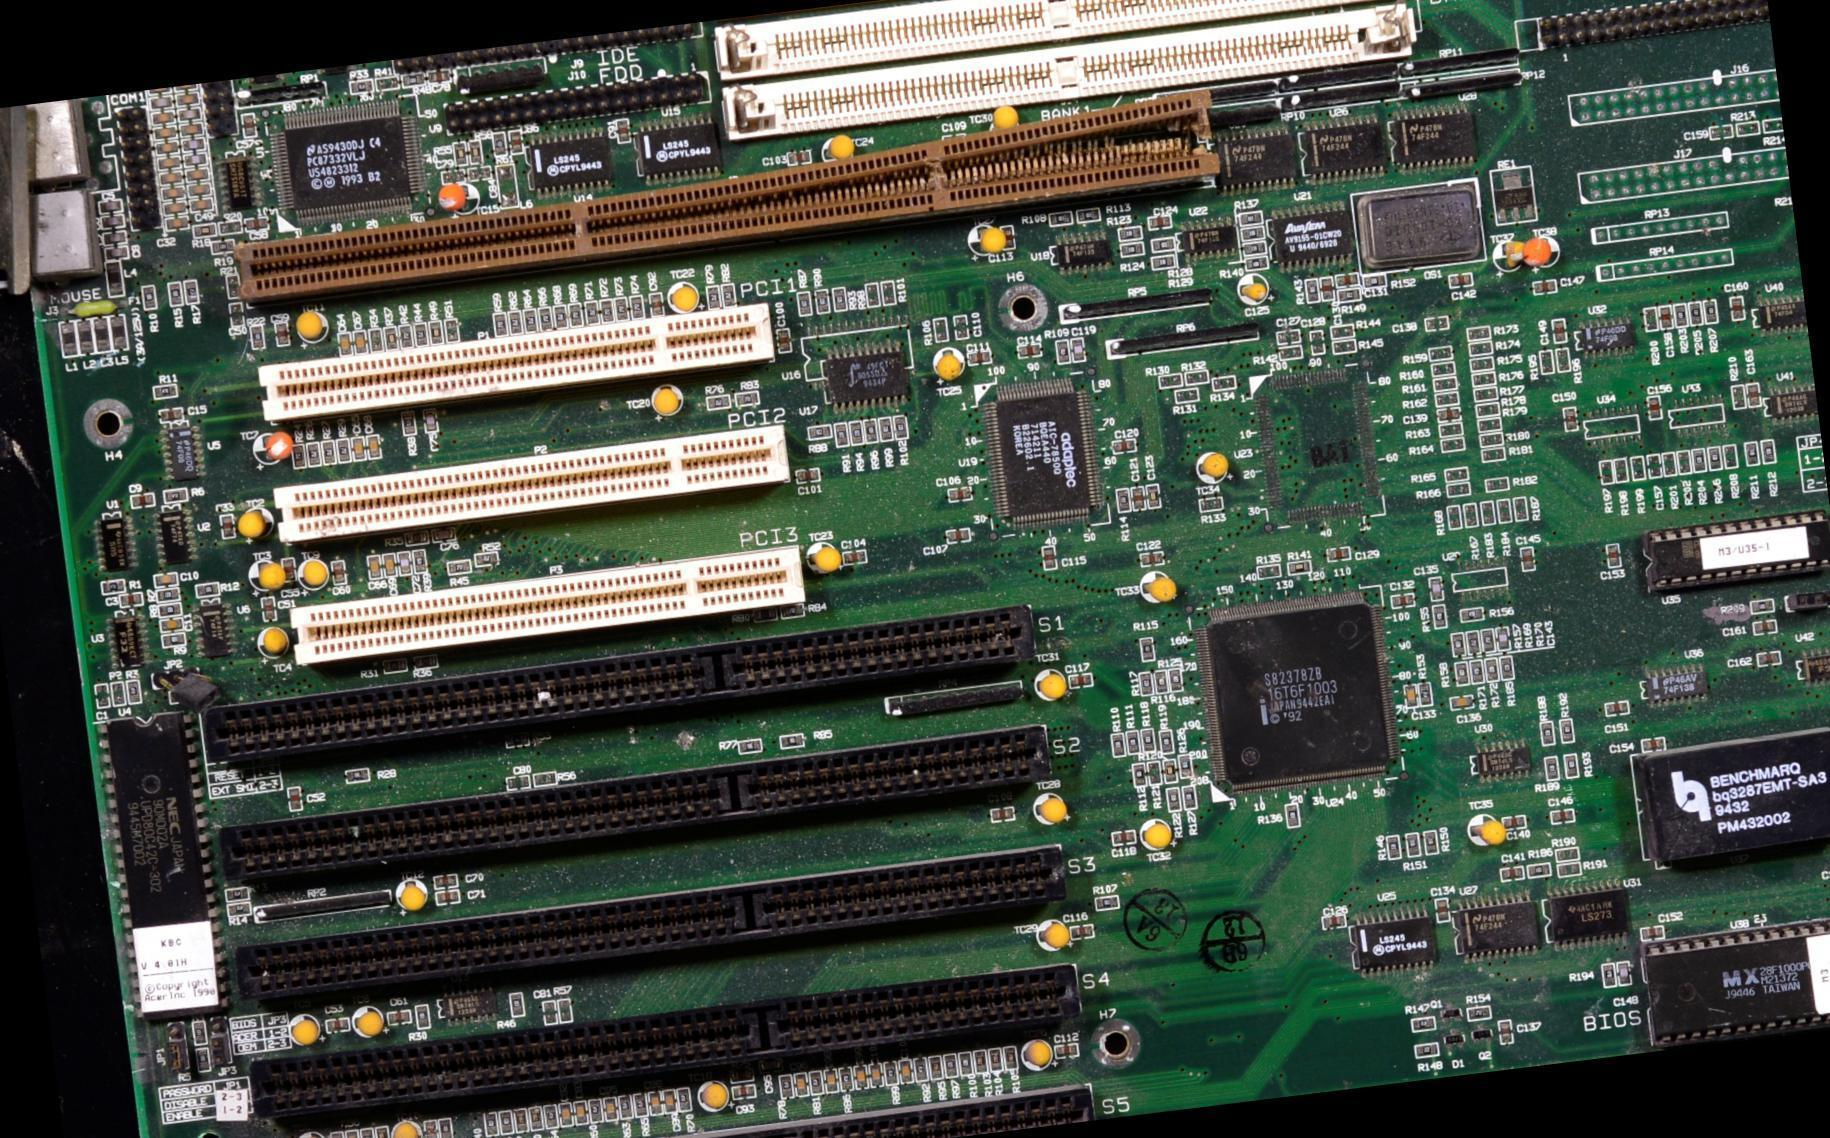Capacitor: (153, 135, 180, 156), (1752, 649, 1782, 666), (1727, 294, 1744, 323), (539, 999, 557, 1026), (173, 90, 200, 108), (186, 180, 213, 198), (176, 104, 202, 122), (1615, 961, 1632, 988), (1656, 305, 1674, 330), (1499, 815, 1527, 831), (945, 486, 973, 502), (386, 1009, 412, 1026), (272, 321, 289, 347), (1550, 317, 1567, 343), (160, 150, 181, 171), (1053, 1042, 1078, 1059), (791, 1073, 808, 1098), (469, 165, 494, 182), (243, 216, 268, 233), (647, 292, 664, 317), (329, 560, 346, 585), (177, 120, 203, 136), (129, 493, 155, 509), (1432, 898, 1449, 922), (241, 113, 258, 137), (350, 437, 367, 461), (1137, 552, 1164, 567), (727, 1068, 754, 1083), (181, 136, 206, 152), (183, 152, 208, 168), (613, 119, 629, 144), (219, 513, 235, 538), (153, 123, 176, 140), (185, 165, 208, 182), (1546, 810, 1576, 823), (438, 169, 464, 184), (351, 329, 366, 355), (1434, 408, 1460, 423), (1753, 619, 1777, 635), (1401, 684, 1417, 708), (325, 1018, 349, 1034), (1308, 331, 1324, 355), (260, 597, 276, 621), (1334, 272, 1361, 286), (1389, 592, 1414, 607), (1640, 927, 1665, 942), (574, 1102, 589, 1127), (230, 302, 245, 327), (1110, 439, 1135, 454), (365, 554, 380, 579), (118, 593, 143, 608), (1040, 546, 1056, 569), (990, 806, 1013, 822), (731, 1084, 754, 1100), (160, 184, 183, 200), (164, 214, 187, 230), (952, 315, 968, 338), (1318, 278, 1334, 301), (280, 558, 296, 581), (1645, 396, 1661, 419), (1129, 487, 1145, 510), (508, 127, 522, 153), (1530, 280, 1556, 294), (1563, 406, 1577, 432), (160, 618, 186, 632), (1498, 1020, 1513, 1044), (160, 406, 184, 421), (1276, 330, 1300, 345), (432, 527, 456, 542), (381, 554, 396, 578), (840, 549, 864, 564), (1640, 737, 1665, 751), (1148, 216, 1173, 230), (1605, 544, 1620, 567), (1428, 576, 1443, 599), (287, 787, 302, 810), (661, 1090, 675, 1114), (160, 171, 184, 185), (1111, 829, 1133, 844), (366, 436, 381, 458), (1647, 454, 1662, 476), (1065, 674, 1090, 687), (1521, 547, 1535, 570), (1494, 629, 1508, 652), (559, 1102, 573, 1125), (869, 1066, 883, 1089), (1423, 316, 1446, 330), (788, 149, 809, 164), (1069, 340, 1084, 361), (96, 682, 109, 706), (505, 775, 529, 788), (1709, 126, 1733, 139), (154, 572, 178, 585), (945, 529, 969, 542), (1070, 925, 1092, 939), (397, 555, 411, 577), (1325, 548, 1350, 560), (433, 875, 458, 887), (437, 890, 457, 905), (1501, 865, 1521, 880), (967, 351, 990, 364), (1018, 345, 1041, 358), (1748, 383, 1761, 406), (603, 1100, 617, 1121), (190, 198, 211, 212), (337, 332, 351, 353), (1447, 275, 1471, 287), (796, 469, 818, 482), (154, 111, 175, 124), (165, 200, 186, 213), (1146, 485, 1159, 506), (424, 1118, 438, 1137), (853, 1067, 865, 1089), (899, 1062, 911, 1084), (426, 70, 448, 82), (1607, 703, 1627, 716), (823, 1072, 836, 1092), (1450, 697, 1471, 709), (1325, 915, 1346, 927), (152, 96, 171, 109), (172, 84, 199, 93), (648, 1095, 660, 1113), (149, 87, 171, 96), (331, 1130, 345, 1137), (346, 1132, 359, 1137)
Connector: (253, 954, 1085, 1127), (218, 726, 1052, 892), (200, 606, 1038, 767), (238, 843, 1070, 998), (720, 0, 1422, 144), (272, 424, 795, 547), (291, 546, 807, 666), (258, 304, 775, 419), (712, 0, 1413, 84), (439, 68, 711, 132), (390, 22, 706, 76), (1538, 0, 1770, 54)
IC: (1189, 592, 1402, 805), (97, 712, 228, 1017), (1639, 914, 1829, 1052), (981, 376, 1104, 535), (282, 100, 417, 219), (1543, 876, 1632, 955), (1351, 904, 1439, 980), (634, 117, 722, 188), (1456, 890, 1541, 960), (1269, 198, 1351, 270), (1299, 116, 1391, 180), (526, 129, 609, 195), (1213, 126, 1297, 190), (1392, 105, 1477, 167), (1272, 204, 1351, 266), (826, 351, 910, 408), (1643, 664, 1711, 709), (1053, 234, 1113, 275), (1581, 409, 1643, 447), (94, 516, 136, 572), (1183, 217, 1235, 262), (1579, 314, 1634, 356), (192, 605, 236, 657), (218, 154, 258, 208), (108, 615, 148, 667), (1765, 383, 1817, 422), (1671, 397, 1724, 433), (156, 508, 192, 560), (1758, 297, 1807, 334), (1800, 647, 1829, 683)
Resistor: (380, 656, 411, 674), (182, 279, 200, 308), (413, 653, 441, 671), (226, 271, 243, 300), (221, 885, 249, 902), (168, 279, 185, 307), (1328, 323, 1356, 340), (878, 282, 897, 307), (627, 293, 645, 319), (1095, 893, 1119, 912), (440, 319, 459, 343), (507, 992, 525, 1017), (1073, 208, 1101, 224), (397, 324, 414, 350), (162, 487, 188, 504), (795, 291, 813, 315), (861, 420, 879, 444), (1173, 388, 1200, 404), (1560, 753, 1577, 778), (552, 306, 569, 331), (532, 771, 560, 786), (1197, 497, 1225, 512), (1481, 476, 1509, 491), (1509, 499, 1528, 521), (1382, 835, 1401, 857), (468, 139, 484, 165), (101, 579, 127, 595), (956, 1052, 973, 1076), (488, 131, 505, 155), (537, 308, 554, 332), (864, 284, 881, 308), (1722, 442, 1739, 466), (249, 322, 264, 349), (400, 413, 416, 438), (1703, 299, 1719, 324), (1672, 303, 1688, 328), (1729, 385, 1745, 410), (1497, 658, 1515, 680), (1159, 760, 1177, 782), (912, 1058, 929, 1081), (987, 1051, 1004, 1074), (342, 769, 372, 782), (1464, 1007, 1490, 1022), (1438, 437, 1464, 452), (1557, 861, 1581, 877), (367, 327, 383, 351), (507, 311, 523, 335), (736, 740, 763, 754), (401, 531, 428, 545), (1598, 458, 1612, 485), (1444, 505, 1459, 530), (1453, 661, 1468, 686), (1483, 657, 1498, 682), (1414, 1043, 1439, 1058), (218, 220, 243, 235), (706, 394, 731, 409), (1276, 345, 1301, 360), (1676, 449, 1691, 474), (1449, 632, 1465, 655), (556, 998, 572, 1021), (527, 1108, 543, 1131), (191, 224, 214, 240), (491, 311, 507, 334), (583, 299, 599, 322), (521, 309, 537, 332), (611, 299, 627, 322), (1303, 277, 1319, 300), (448, 559, 471, 575), (807, 1070, 821, 1096), (209, 240, 235, 254), (1150, 256, 1176, 270), (1210, 376, 1236, 390), (1526, 863, 1550, 878), (1002, 1046, 1017, 1070), (153, 384, 177, 399), (1054, 340, 1069, 364), (1643, 309, 1658, 333), (1496, 500, 1512, 522), (1416, 684, 1432, 706), (1538, 722, 1554, 744), (1403, 835, 1419, 857), (1537, 351, 1553, 373), (1706, 447, 1722, 469), (677, 1087, 691, 1112), (1410, 1017, 1435, 1031), (452, 142, 466, 167), (932, 317, 946, 342), (1555, 846, 1578, 861), (191, 1021, 206, 1044), (416, 1005, 431, 1028), (402, 72, 425, 87), (722, 284, 737, 307), (814, 289, 829, 312), (1687, 303, 1702, 326), (1185, 369, 1208, 384), (1762, 116, 1782, 133), (1748, 601, 1774, 614), (1330, 340, 1356, 353), (154, 589, 180, 602), (1049, 211, 1073, 225), (1363, 274, 1387, 288), (1336, 287, 1360, 301), (322, 440, 336, 464), (891, 418, 907, 439), (195, 583, 219, 597), (1444, 467, 1468, 481), (1464, 632, 1479, 654), (1543, 757, 1558, 779), (926, 1057, 941, 1079), (836, 1069, 851, 1091), (289, 446, 304, 468), (1554, 349, 1569, 371), (474, 552, 496, 567), (1613, 459, 1628, 481), (1691, 450, 1706, 472), (111, 681, 124, 706), (1256, 564, 1281, 577), (1286, 803, 1299, 828), (485, 1111, 498, 1136), (834, 286, 847, 311), (732, 392, 757, 405), (1421, 833, 1439, 851), (437, 1118, 454, 1137), (125, 678, 139, 701), (707, 285, 721, 308), (599, 301, 613, 324), (383, 328, 397, 351), (1466, 326, 1489, 340), (1476, 388, 1499, 402), (1662, 453, 1676, 476), (1745, 443, 1759, 466), (971, 1050, 987, 1070), (227, 902, 248, 917), (883, 1063, 898, 1084), (543, 1106, 558, 1127), (512, 1112, 527, 1133), (1760, 441, 1775, 462), (196, 1050, 209, 1074), (634, 1095, 647, 1119), (1468, 357, 1492, 370), (1461, 609, 1483, 623), (1469, 662, 1483, 684), (1601, 964, 1615, 986), (348, 79, 370, 93), (413, 325, 427, 347), (1158, 373, 1180, 387), (1432, 375, 1454, 389), (1478, 418, 1500, 432), (1483, 448, 1505, 462), (1433, 604, 1445, 629), (157, 604, 182, 616), (1286, 561, 1309, 574), (1736, 122, 1759, 135), (378, 76, 399, 90), (833, 423, 847, 444), (413, 552, 427, 573), (1134, 760, 1146, 784), (1151, 240, 1175, 252), (141, 285, 154, 307), (1241, 226, 1263, 239), (307, 445, 320, 467), (1116, 488, 1129, 510), (1167, 671, 1182, 690), (1560, 719, 1572, 742), (943, 1054, 955, 1077), (590, 1099, 602, 1122), (1239, 212, 1262, 224), (1464, 504, 1477, 525), (1124, 732, 1137, 753), (778, 1077, 791, 1098), (1428, 346, 1449, 359), (1437, 424, 1459, 436), (1446, 483, 1468, 495), (1138, 673, 1151, 693), (1140, 729, 1153, 749), (1182, 789, 1195, 809), (849, 422, 862, 442), (1139, 639, 1154, 656), (1481, 503, 1493, 524), (1111, 734, 1123, 755), (1118, 227, 1139, 239), (501, 1112, 512, 1134), (428, 321, 439, 343), (1160, 730, 1172, 750), (1168, 788, 1180, 808), (1243, 242, 1263, 254), (879, 420, 891, 440), (568, 306, 582, 323), (1467, 344, 1493, 353), (1473, 373, 1494, 384), (779, 734, 801, 744), (1180, 757, 1191, 777), (1246, 258, 1268, 268), (338, 439, 348, 461), (1430, 363, 1452, 373), (1475, 405, 1497, 415), (1481, 434, 1501, 445), (1630, 461, 1642, 479), (1482, 632, 1492, 653), (1148, 764, 1160, 781), (619, 1099, 629, 1119), (1121, 245, 1141, 255), (1435, 393, 1455, 402), (1154, 675, 1165, 691), (360, 1127, 377, 1137), (808, 430, 829, 438), (375, 1126, 388, 1137)
